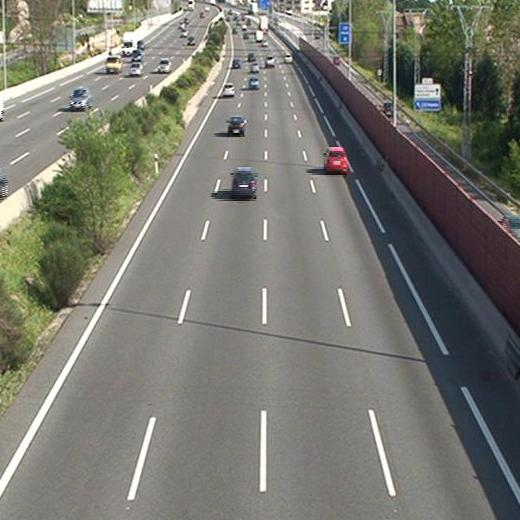car: (232, 168, 255, 195), (326, 148, 347, 171), (228, 116, 245, 134), (222, 84, 235, 95), (264, 56, 274, 67), (248, 78, 258, 88), (248, 63, 258, 72), (283, 53, 291, 63), (232, 58, 240, 68)
